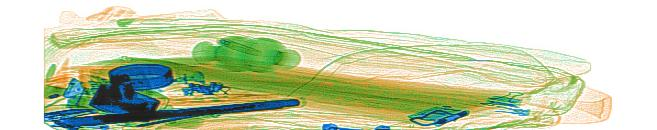seal: (188, 34, 302, 74)
